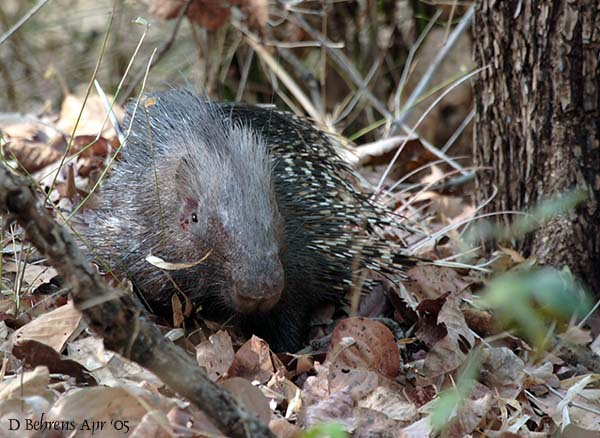porcupine: (65, 74, 421, 334)
